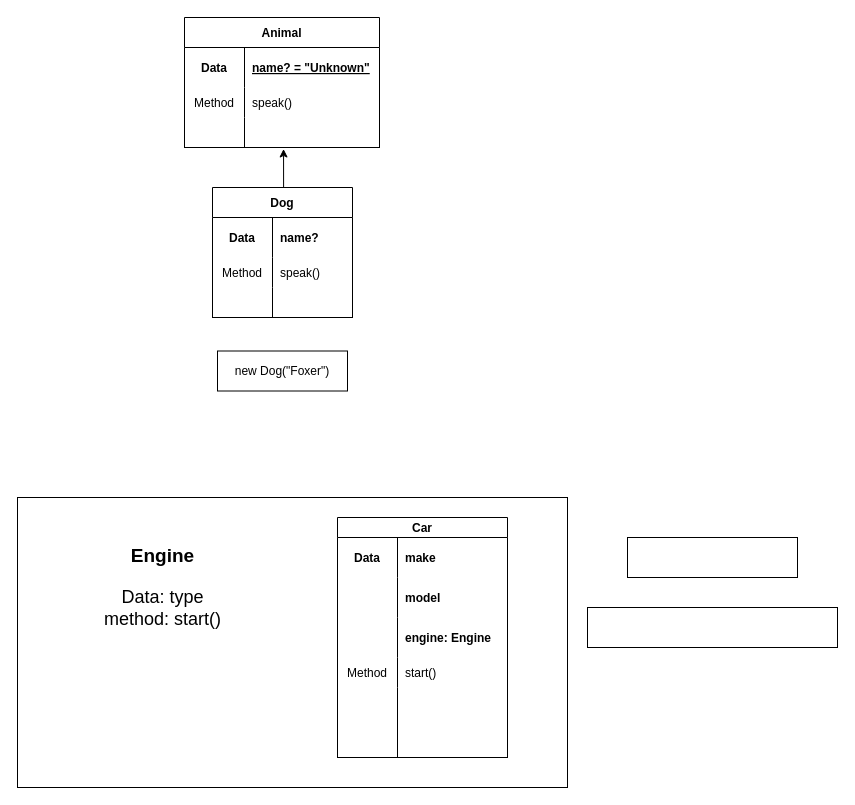
Some shapes in this 855 by 805 pixel diagram are drawn without their labels. The centre of each missing label's shape, as x and y in pixels:
car = new Car("Ford", "Mustang", engine): the point at 712,627
engine = new Engine("V6"): the point at 712,557
